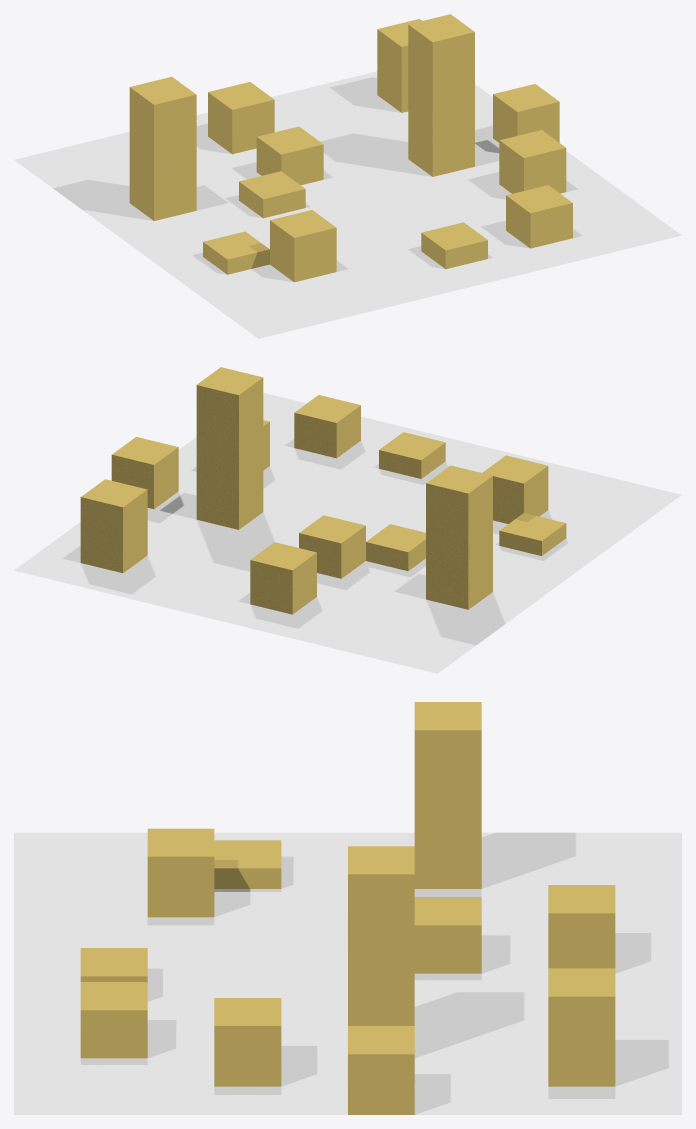
3 views of the same model, one above another, from view 1: azimuth 30°, elevation 25°; view 2: azimuth 150°, elevation 25°; view 3: azimuth 270°, elevation 25° (orthographic). The views are drawn at different scales.
Parts seen in each view (by area): view 1: base; view 2: base; view 3: base.
Boxes of the visible parts, x1,y1,x2,y2 form: base: (14, 14, 681, 338); base: (14, 367, 681, 673); base: (14, 702, 681, 1114).
Size of the model in its own units: 10 by 3.04 by 10.
1 material, 1 textured.
